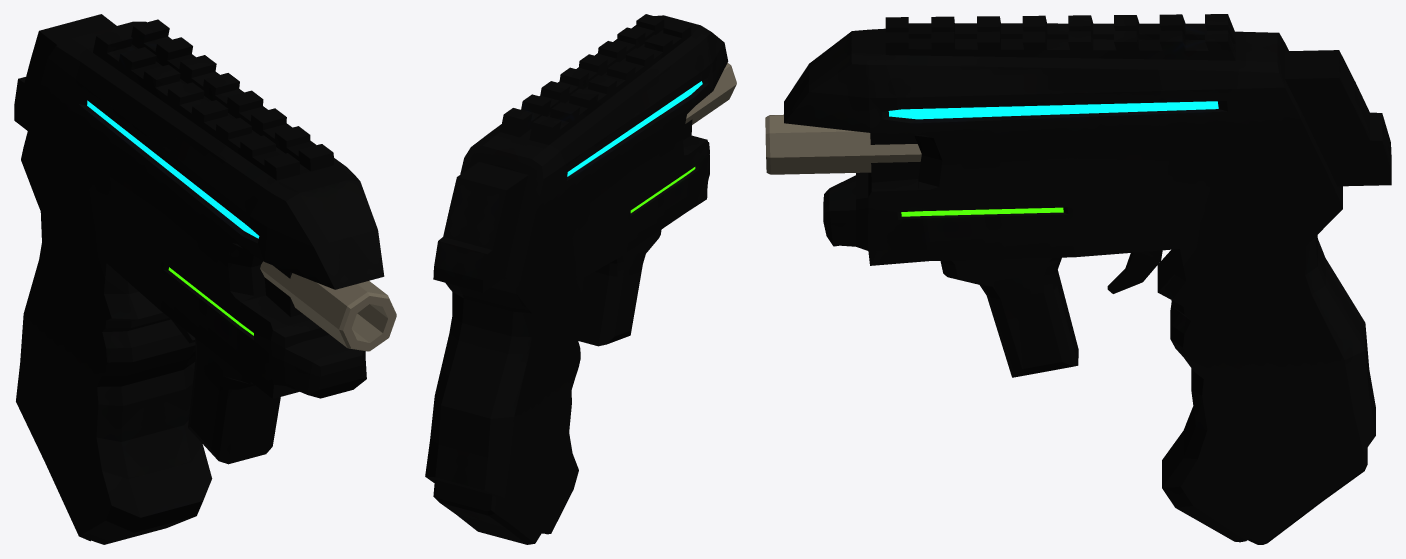
The model's file is sidearm1.fbx.
3 views of the same model, side by side, from view 1: azimuth 30°, elevation 25°; view 2: azimuth 150°, elevation 25°; view 3: azimuth 270°, elevation 25° (orthographic). The views are drawn at different scales.
Visible parts, largest first — view 1: Cube; view 2: Cube; view 3: Cube.
Boxes of the visible parts, x1=… form: Cube: x1=14, y1=14, x2=396, y2=544; Cube: x1=425, y1=14, x2=736, y2=544; Cube: x1=765, y1=14, x2=1391, y2=544.
Size of the model in its own units: 3.95 by 17.61 by 20.05.
